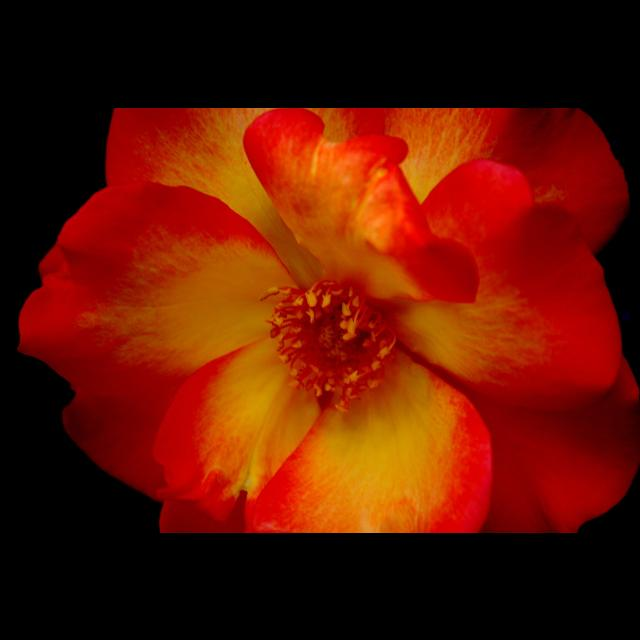Flower: (21, 114, 598, 516)
